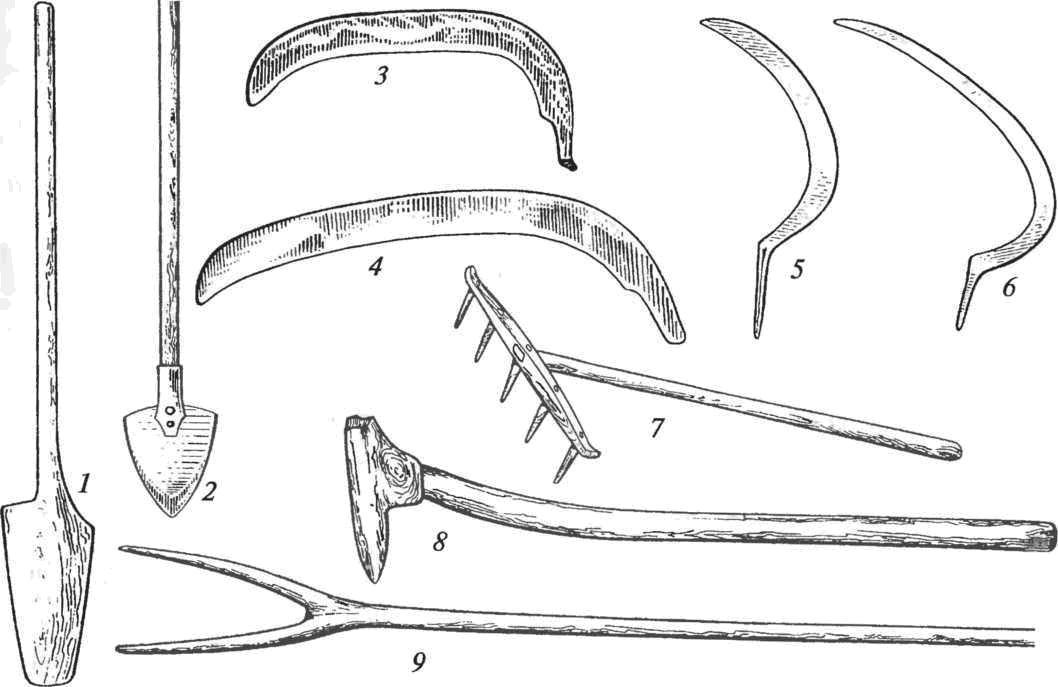foice: (834, 19, 1057, 330), (701, 17, 839, 339)
